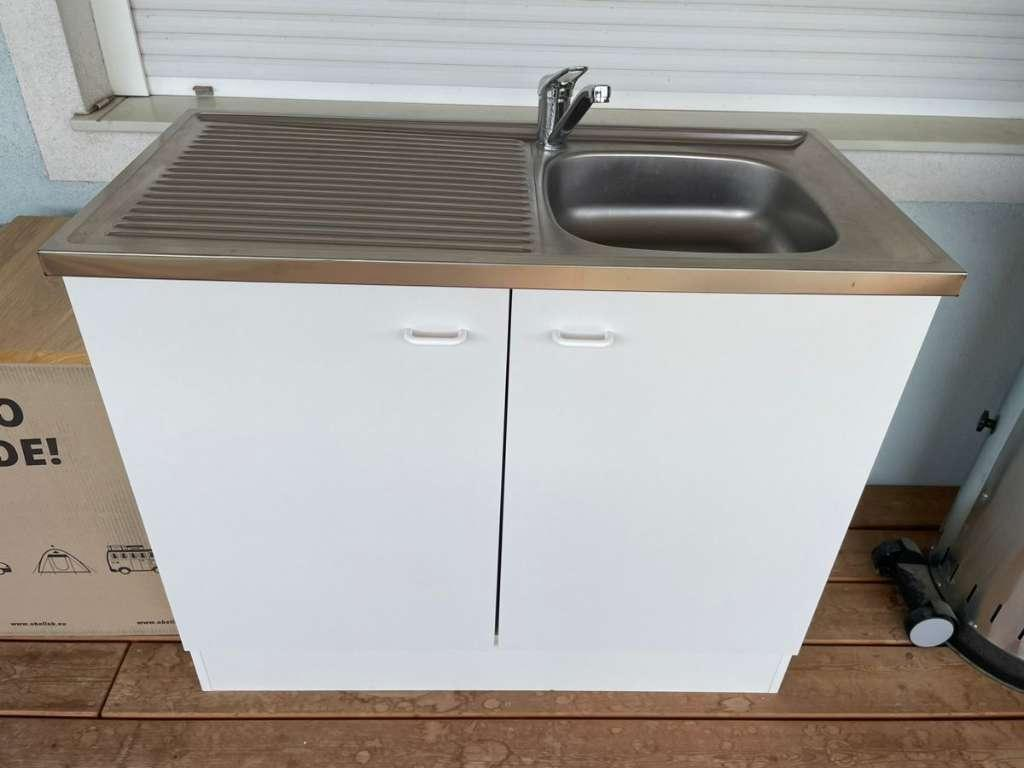cabinet_door: (111, 280, 503, 649), (512, 292, 871, 655)
handle: (395, 319, 486, 354), (538, 321, 631, 354)
